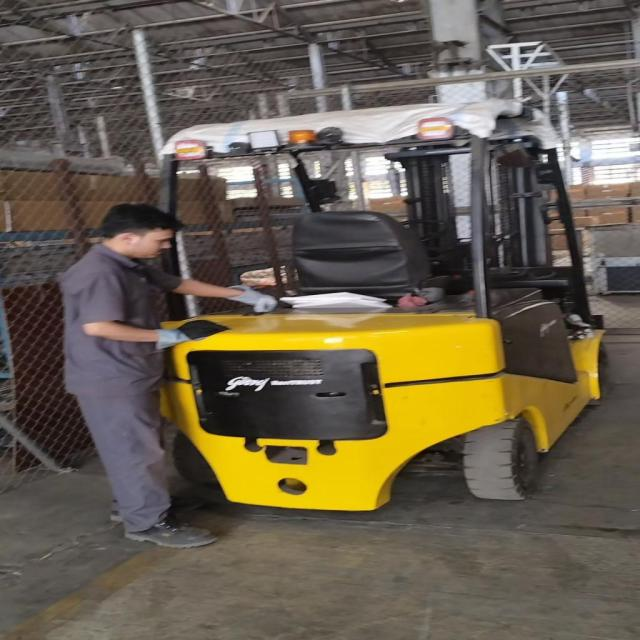Gloves-Detection: (222, 281, 280, 314), (157, 319, 220, 346)
